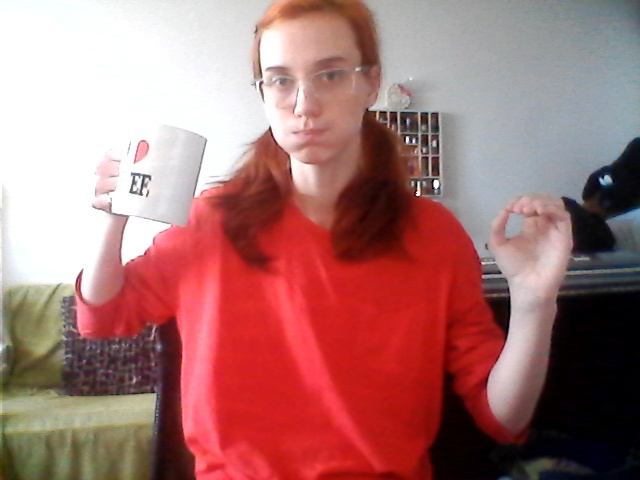o: (474, 186, 586, 299)
